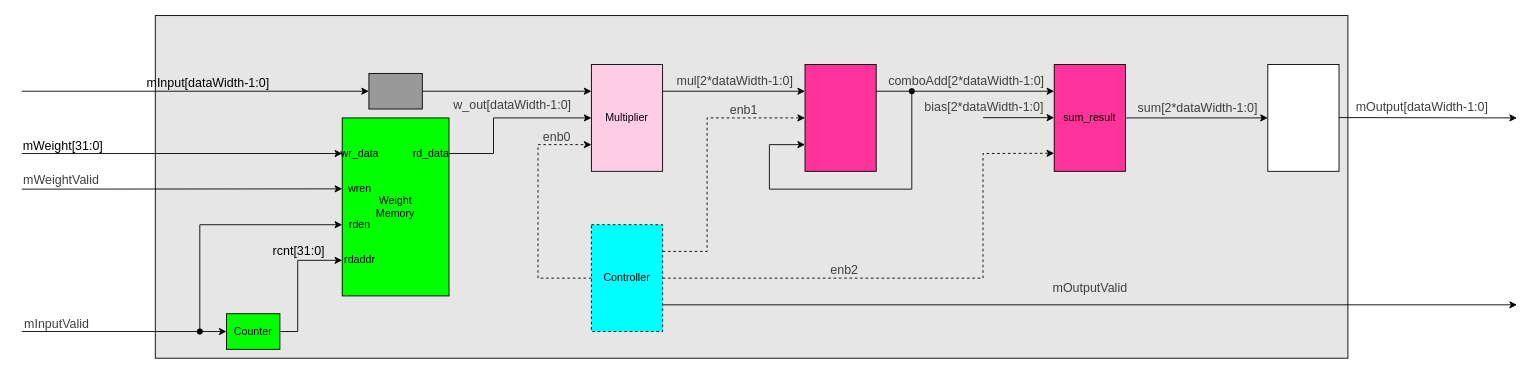
This 1540x374 diagram has some shape labels left out. Here are the shapes that lost their labels. From the top down, the centre of each, then its label:
At pixel 395 91: "Delay".
At pixel 840 117: "sum_combo".
At pixel 1303 117: "sigmoid ROM".
